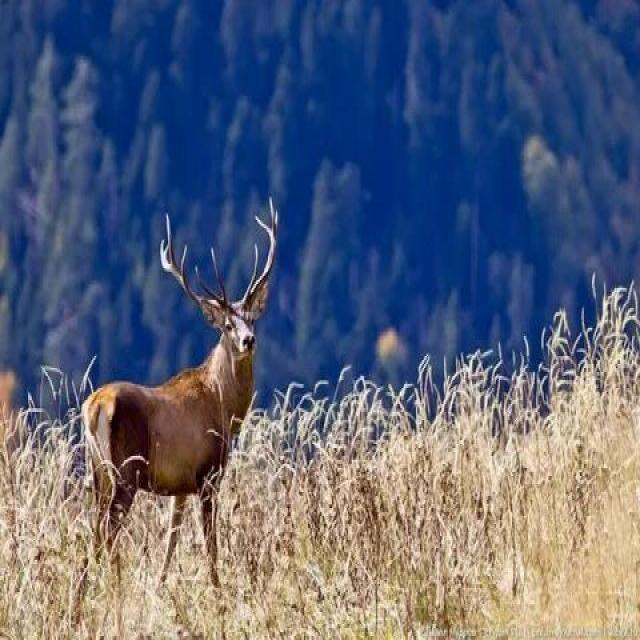deer: (94, 222, 328, 587)
